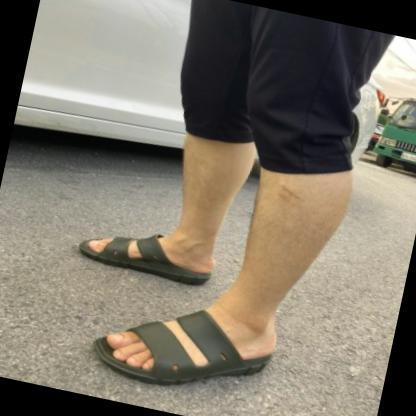no_safety-shoe: (57, 282, 311, 415), (68, 213, 224, 299)
